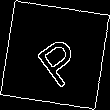P_NW: (25, 24, 85, 86)
